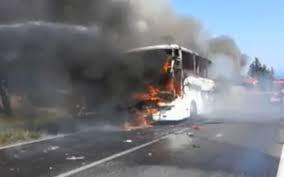fire: (129, 55, 191, 129)
